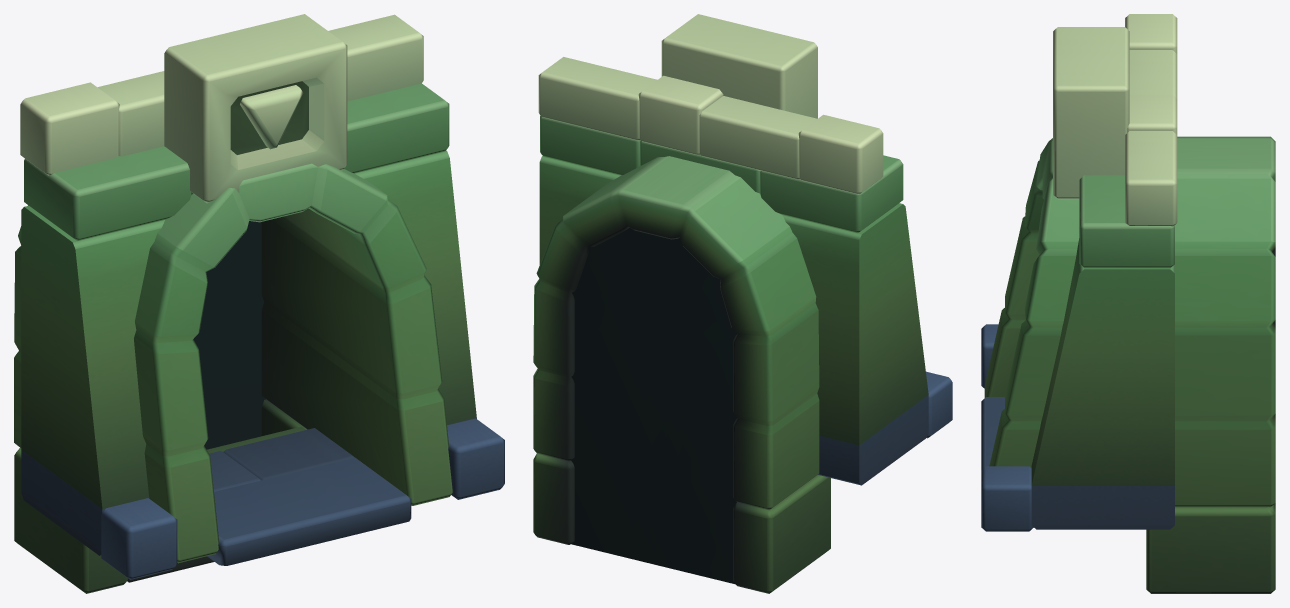
The model's file is doorway_down_wall.fbx.
The picture shows the model from 3 angles, left to right: view 1: azimuth 30°, elevation 25°; view 2: azimuth 150°, elevation 25°; view 3: azimuth 270°, elevation 25°; orthographic projection. The views are drawn at different scales.
Visible parts, largest first — view 1: doorway_down_wall; view 2: doorway_down_wall; view 3: doorway_down_wall.
Boxes of the visible parts, x1,y1,x2,y2 form: doorway_down_wall: [14, 14, 504, 593]; doorway_down_wall: [533, 14, 952, 593]; doorway_down_wall: [981, 14, 1275, 593].
Size of the model in its own units: 405 by 552 by 308.
